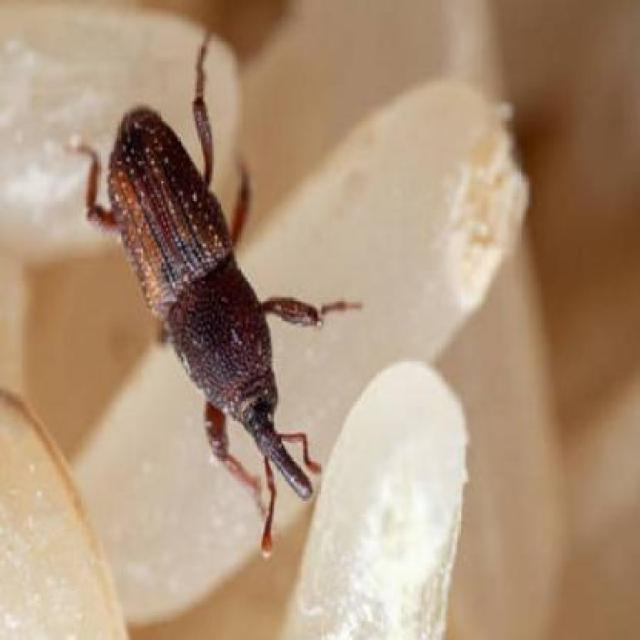rice-bug: (102, 87, 320, 539)
